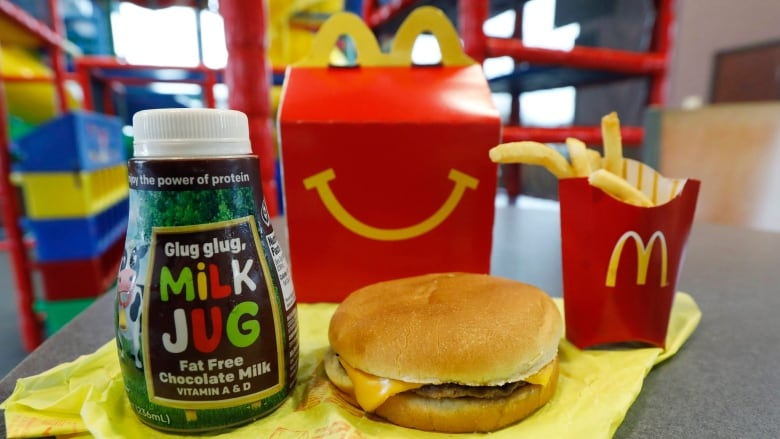mcdonalds: (597, 228, 675, 291)
